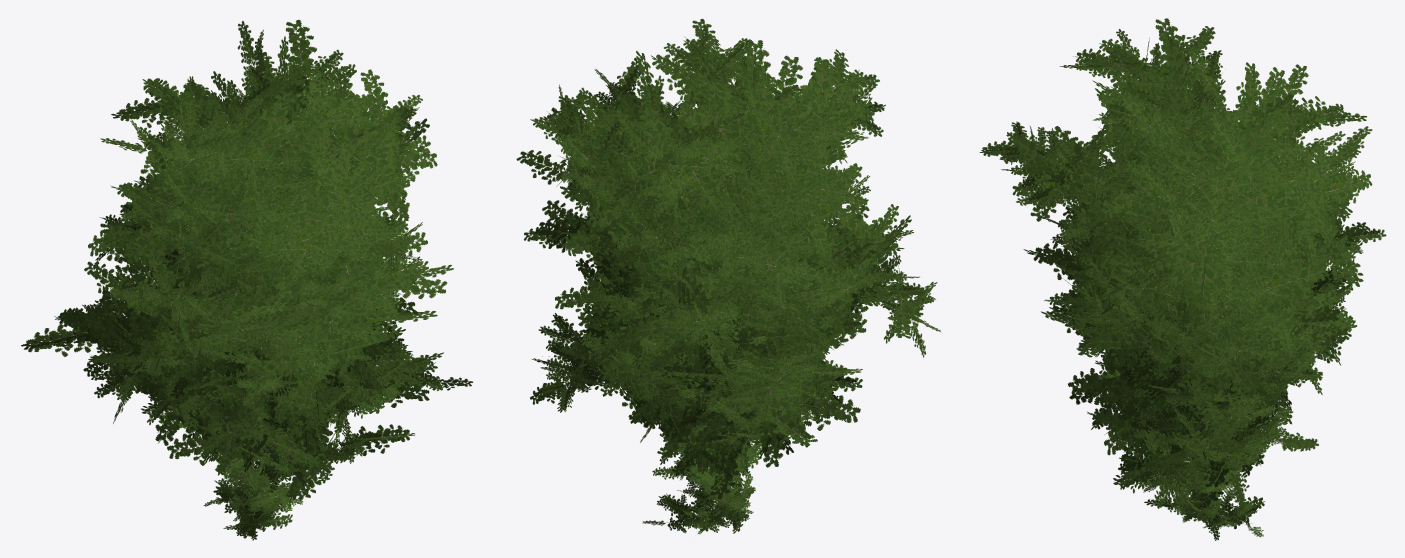
The model's file is oak_leaf.glb.
3 renders of one model, left to right at view 1: azimuth 30°, elevation 25°; view 2: azimuth 150°, elevation 25°; view 3: azimuth 270°, elevation 25°, orthographic.
Parts seen in each view (by area): view 1: oak_c_l2, oak_c, oak_c_l1, oak_a_l2, oak_a_l1, oak_a, oak_b_l2, oak_b, oak_b_l1, oak_sap_a_l2, oak_sap_a, oak_sap_a_l1; view 2: oak_c_l2, oak_c_l1, oak_c, oak_a_l2, oak_a_l1, oak_a, oak_b_l2, oak_b, oak_b_l1, oak_sap_a, oak_sap_a_l2, oak_sap_a_l1; view 3: oak_c_l2, oak_c_l1, oak_c, oak_a_l2, oak_a_l1, oak_a, oak_b, oak_b_l1, oak_b_l2, oak_sap_a, oak_sap_a_l2, oak_sap_a_l1.
Part boxes in pixels (box(x1,y1,x2,y2)): oak_c_l2: box(82, 19, 437, 469); oak_c: box(63, 30, 422, 479); oak_c_l1: box(55, 21, 422, 447); oak_a_l2: box(21, 69, 453, 487); oak_a_l1: box(83, 106, 430, 462); oak_a: box(59, 102, 422, 475); oak_b_l2: box(139, 189, 437, 510); oak_b: box(131, 236, 444, 492); oak_b_l1: box(142, 238, 472, 499); oak_sap_a_l2: box(213, 462, 297, 538); oak_sap_a: box(203, 459, 303, 536); oak_sap_a_l1: box(214, 462, 311, 540); oak_c_l2: box(516, 18, 923, 472); oak_c_l1: box(523, 27, 937, 422); oak_c: box(531, 33, 941, 421); oak_a_l2: box(539, 68, 890, 476); oak_a_l1: box(575, 57, 878, 461); oak_a: box(560, 69, 882, 472); oak_b_l2: box(542, 189, 846, 499); oak_b: box(535, 212, 828, 473); oak_b_l1: box(530, 215, 842, 476); oak_sap_a: box(642, 446, 757, 534); oak_sap_a_l2: box(658, 448, 762, 533); oak_sap_a_l1: box(652, 441, 761, 532); oak_c_l2: box(1007, 18, 1372, 465); oak_c_l1: box(979, 26, 1372, 418); oak_c: box(991, 28, 1363, 446); oak_a_l2: box(1041, 142, 1363, 460); oak_a_l1: box(1044, 137, 1386, 455); oak_a: box(1063, 128, 1363, 439); oak_b: box(1071, 241, 1342, 505); oak_b_l1: box(1069, 284, 1353, 510); oak_b_l2: box(1072, 246, 1353, 505); oak_sap_a: box(1143, 466, 1263, 540); oak_sap_a_l2: box(1139, 464, 1264, 529); oak_sap_a_l1: box(1148, 454, 1246, 530).
Size of the model in its own units: 15.73 by 18.28 by 14.37.
Materials: 1 (1 with a texture image).
